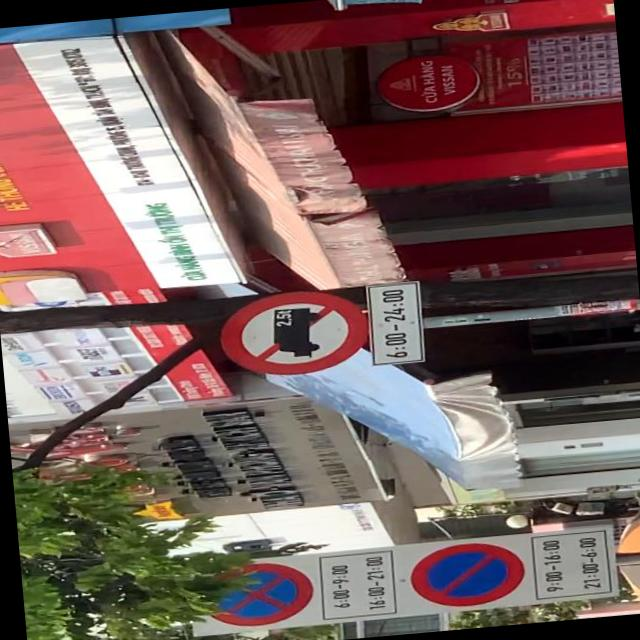P-131a: (406, 536, 526, 608)
